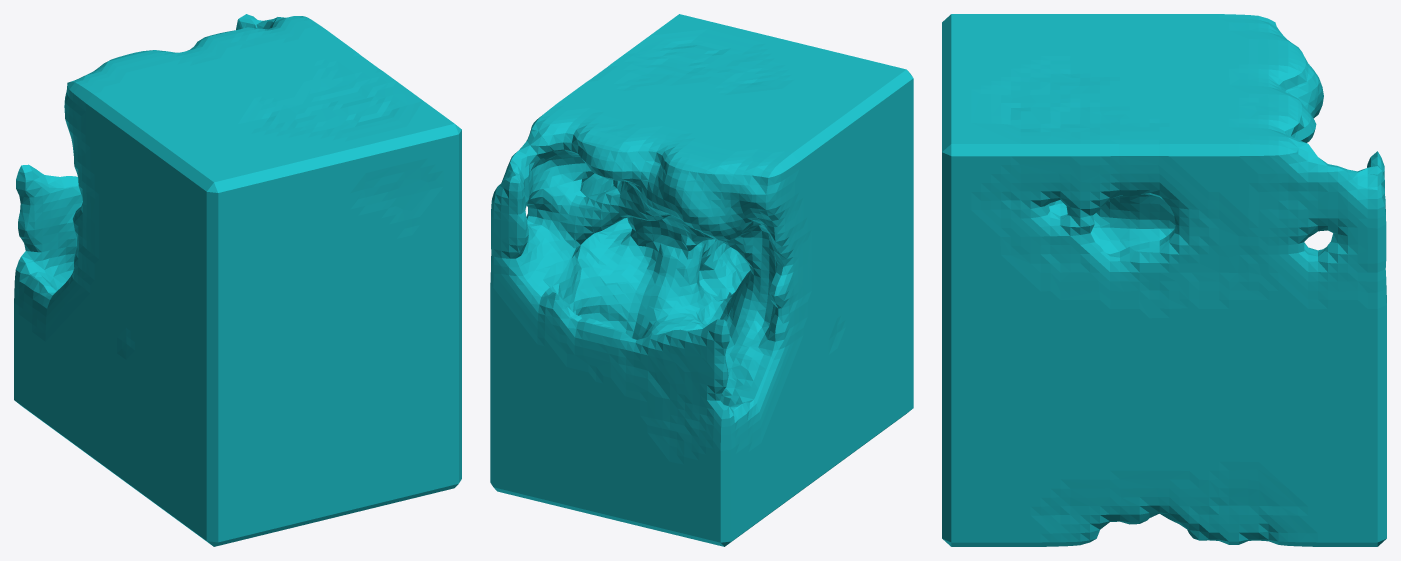
3 renders of one model, left to right at view 1: azimuth 30°, elevation 25°; view 2: azimuth 150°, elevation 25°; view 3: azimuth 270°, elevation 25°, orthographic. The views are drawn at different scales.
Parts seen in each view (by area): view 1: Liquid_Domain; view 2: Liquid_Domain; view 3: Liquid_Domain.
Part boxes in pixels (<box>): Liquid_Domain: <box>14,14,461,546</box>; Liquid_Domain: <box>490,14,913,546</box>; Liquid_Domain: <box>942,14,1386,546</box>.
Size of the model in its own units: 79.09 by 108 by 108.
